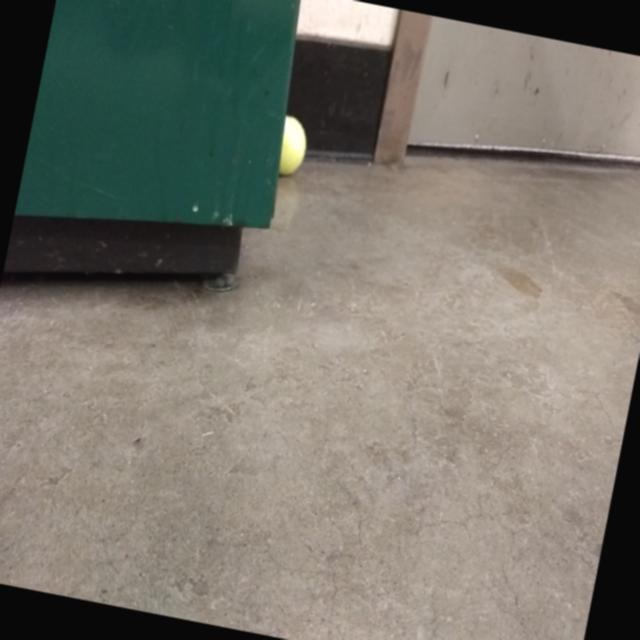tennis-ball: (272, 113, 312, 180)
